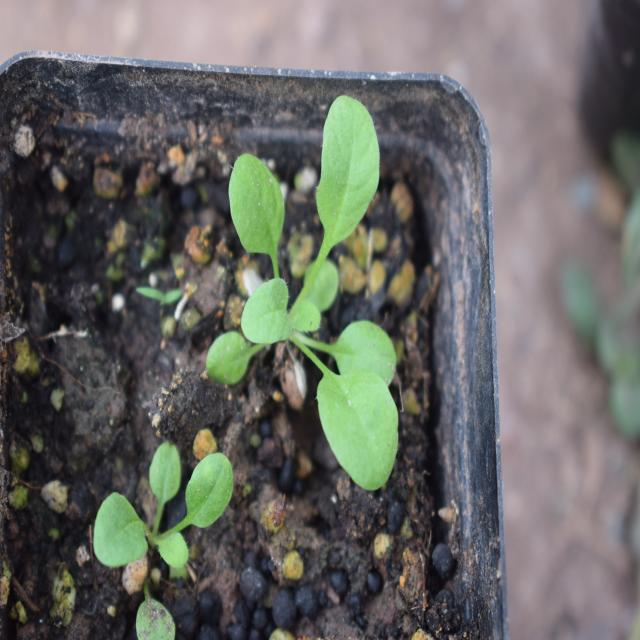Shepherd_Purse: (220, 92, 420, 484), (99, 428, 236, 584)
